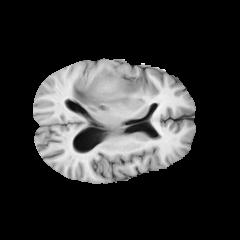glioma: (71, 63, 149, 111)
